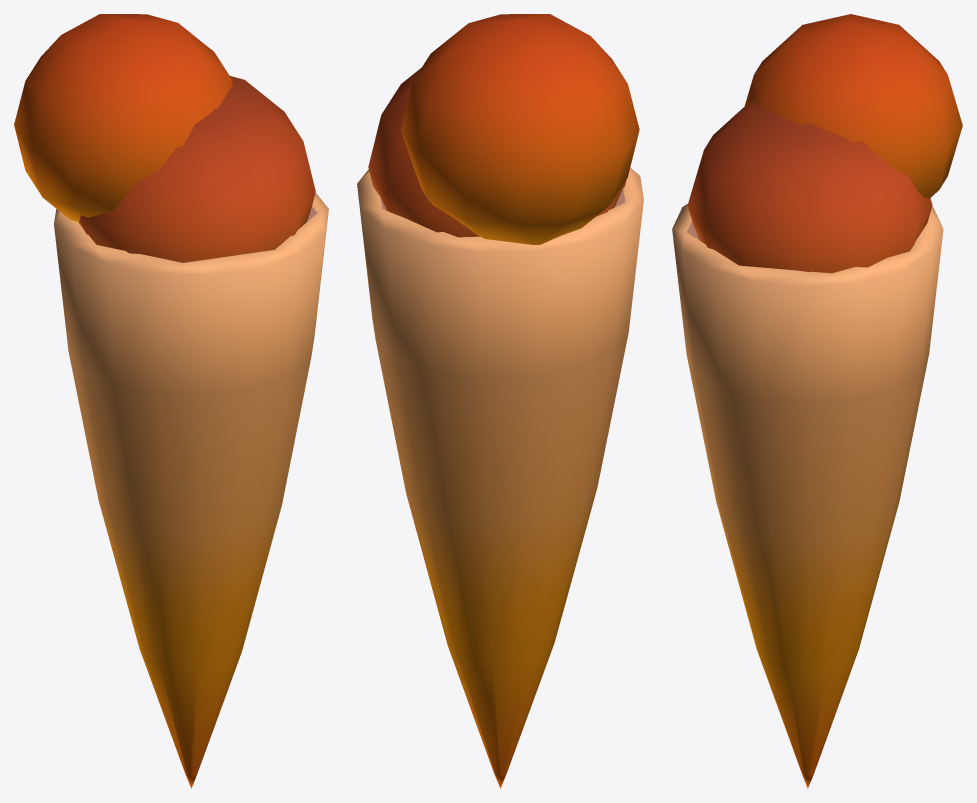
Rendered from ice_cream_002.fbx.
3 renders of one model, left to right at view 1: azimuth 30°, elevation 25°; view 2: azimuth 150°, elevation 25°; view 3: azimuth 270°, elevation 25°, orthographic. The views are drawn at different scales.
Visible parts, largest first — view 1: ice_cream_002; view 2: ice_cream_002; view 3: ice_cream_002.
Part boxes in pixels (left/top/right/bottom): ice_cream_002: left=14, top=14, right=328, bottom=788; ice_cream_002: left=357, top=14, right=643, bottom=788; ice_cream_002: left=672, top=14, right=962, bottom=788.
Bounding box in the file's own units: 6.31 × 6.24 × 17.66.
